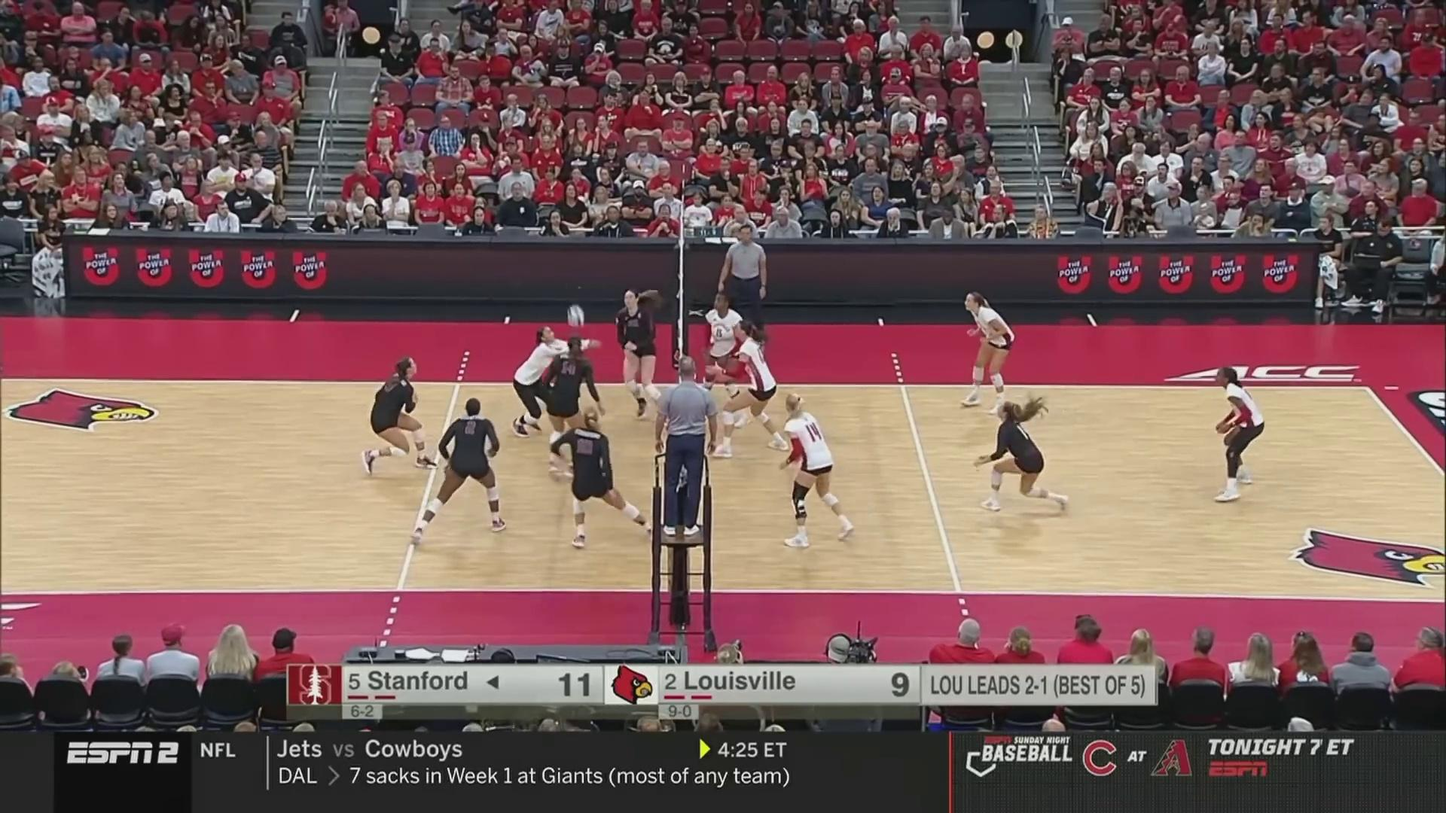player: (553, 410, 655, 549), (415, 399, 507, 538), (776, 394, 857, 549), (722, 321, 802, 456), (974, 401, 1070, 512), (514, 327, 601, 434), (545, 337, 607, 473), (696, 294, 755, 429), (365, 359, 434, 474), (1209, 368, 1267, 504), (615, 288, 665, 422), (961, 293, 1017, 410)
refree: (656, 359, 715, 540), (718, 225, 771, 363)
